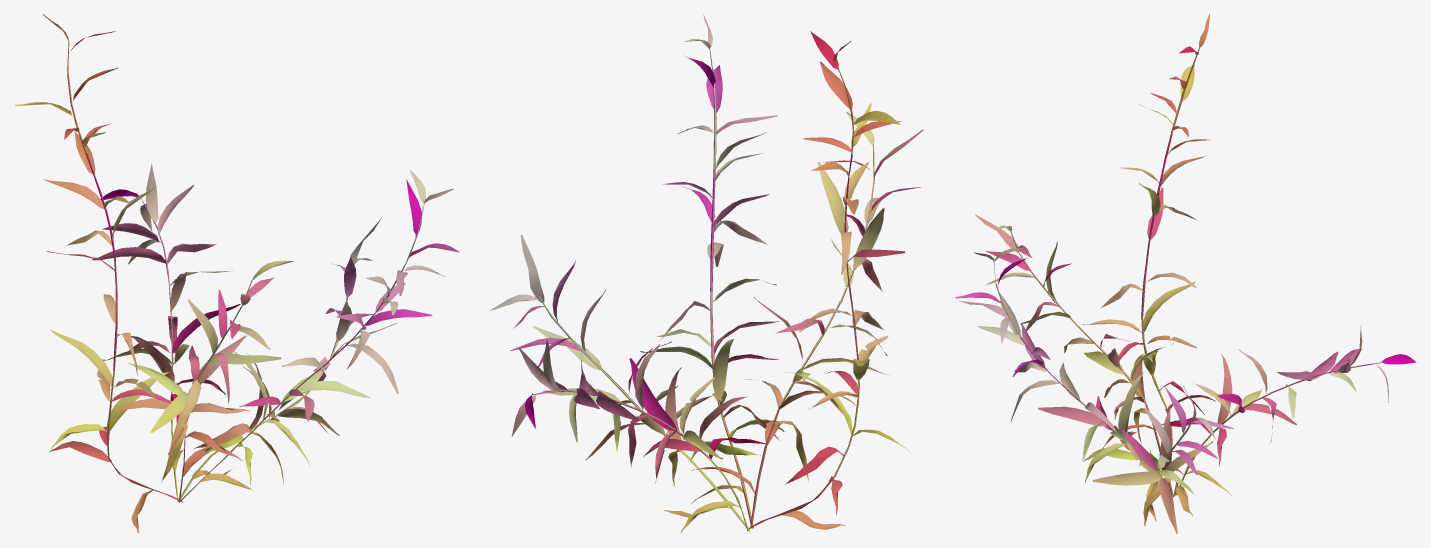
The model's file is shrub_a_LODs.glb.
3 renders of one model, left to right at view 1: azimuth 30°, elevation 25°; view 2: azimuth 150°, elevation 25°; view 3: azimuth 270°, elevation 25°, orthographic. The views are drawn at different scales.
Parts seen in each view (by area): view 1: shrub_a_LOD0; view 2: shrub_a_LOD0; view 3: shrub_a_LOD0.
Part boxes in pixels (x1,y1,x2,y2): shrub_a_LOD0: (14,14,459,533); shrub_a_LOD0: (490,14,923,533); shrub_a_LOD0: (955,14,1416,533).
Size of what is drawn, in the model's own units: 1.32 by 1.7 by 1.64.
